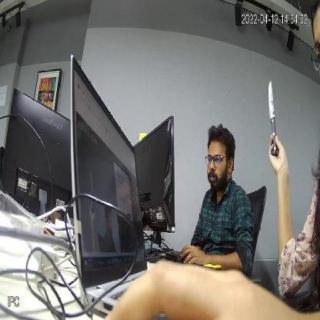knife: (266, 81, 282, 129)
